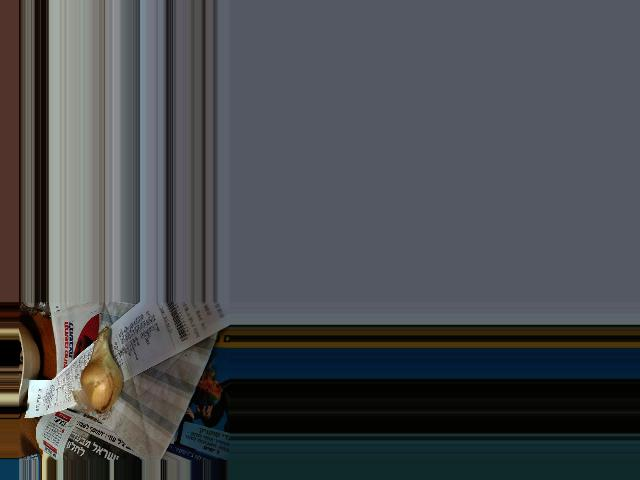onion: (82, 337, 120, 414)
